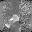people: (10, 14, 20, 24)
